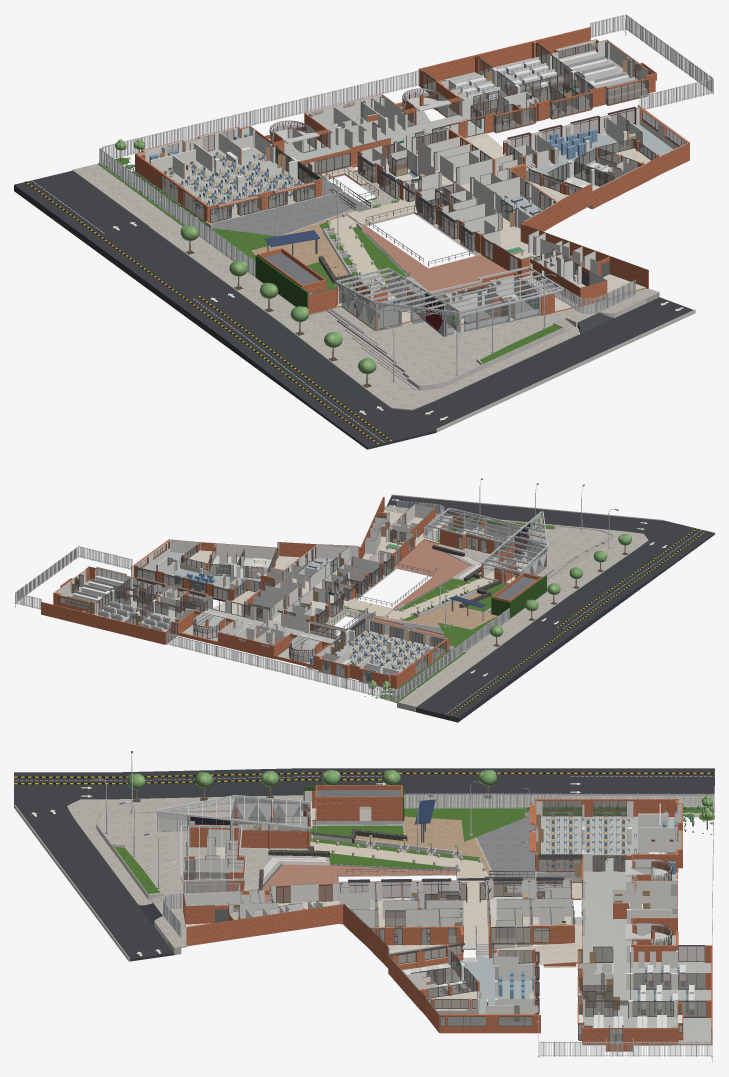
The model's file is floor-1.glb.
3 views of the same model, one above another, from view 1: azimuth 30°, elevation 25°; view 2: azimuth 150°, elevation 25°; view 3: azimuth 270°, elevation 25° (orthographic). The views are drawn at different scales.
Visible parts, largest first — view 1: Walls, Floor_Slab, Access_Plaza_Surface_25, PZ_Pavimentos, Access_Plaza_Surface_23, Access_Plaza_Surface_24, P1_Ventanas_Interiores, P1_Fachada_Compartida, Glass, Site, Perim_V2_Norte_Lindero, F24_Norte_A_Bajo_P1 (+41 smaller); view 2: Walls, Floor_Slab, Access_Plaza_Surface_25, PZ_Pavimentos, Access_Plaza_Surface_23, P1_Ventanas_Interiores, Glass, Access_Plaza_Surface_24, Perim_V2_Norte_Lindero, P1_Fachada_Compartida, F24_Norte_A_Bajo_P1, Site (+34 smaller); view 3: Floor_Slab, Walls, PZ_Pavimentos, Access_Plaza_Surface_23, Access_Plaza_Surface_25, P1_Fachada_Compartida, P1_Ventanas_Interiores, Glass, Access_Plaza_Surface_24, Site, Perim_V2_Perimetro_4_1, Perim_V1_Oeste_Jardin (+44 smaller).
Boxes of the visible parts, x1,y1,x2,y2 form: Walls: (150,42,643,335); Floor_Slab: (135,44,673,336); Access_Plaza_Surface_25: (14,171,278,342); PZ_Pavimentos: (201,166,534,333); Access_Plaza_Surface_23: (314,297,693,449); Access_Plaza_Surface_24: (221,322,371,410); P1_Ventanas_Interiores: (275,55,658,186); P1_Fachada_Compartida: (203,88,689,288); Glass: (211,61,640,299); Site: (116,158,653,355); Perim_V2_Norte_Lindero: (102,70,419,159); F24_Norte_A_Bajo_P1: (418,27,590,114); Walls: (149,503,543,674); Floor_Slab: (61,510,545,689); Access_Plaza_Surface_25: (416,597,608,722); PZ_Pavimentos: (311,540,553,651); Access_Plaza_Surface_23: (387,495,714,562); P1_Ventanas_Interiores: (97,543,345,652); Glass: (74,536,486,661); Access_Plaza_Surface_24: (567,550,676,611); Perim_V2_Norte_Lindero: (165,633,393,700); P1_Fachada_Compartida: (131,497,449,652); F24_Norte_A_Bajo_P1: (41,602,193,644); Site: (306,508,578,702); Floor_Slab: (183,808,711,1043); Walls: (183,790,681,1023); PZ_Pavimentos: (249,808,581,902); Access_Plaza_Surface_23: (14,772,174,961); Access_Plaza_Surface_25: (303,768,714,795); P1_Fachada_Compartida: (186,799,672,1033); P1_Ventanas_Interiores: (411,855,705,1020); Glass: (349,863,671,1006); Access_Plaza_Surface_24: (118,768,303,799); Site: (181,809,714,957); Perim_V2_Perimetro_4_1: (537,1041,713,1057); Perim_V1_Oeste_Jardin: (404,793,560,808).
Bounding box in the file's own units: 99.84 × 11.76 × 99.89.
77 materials, 19 textured.
